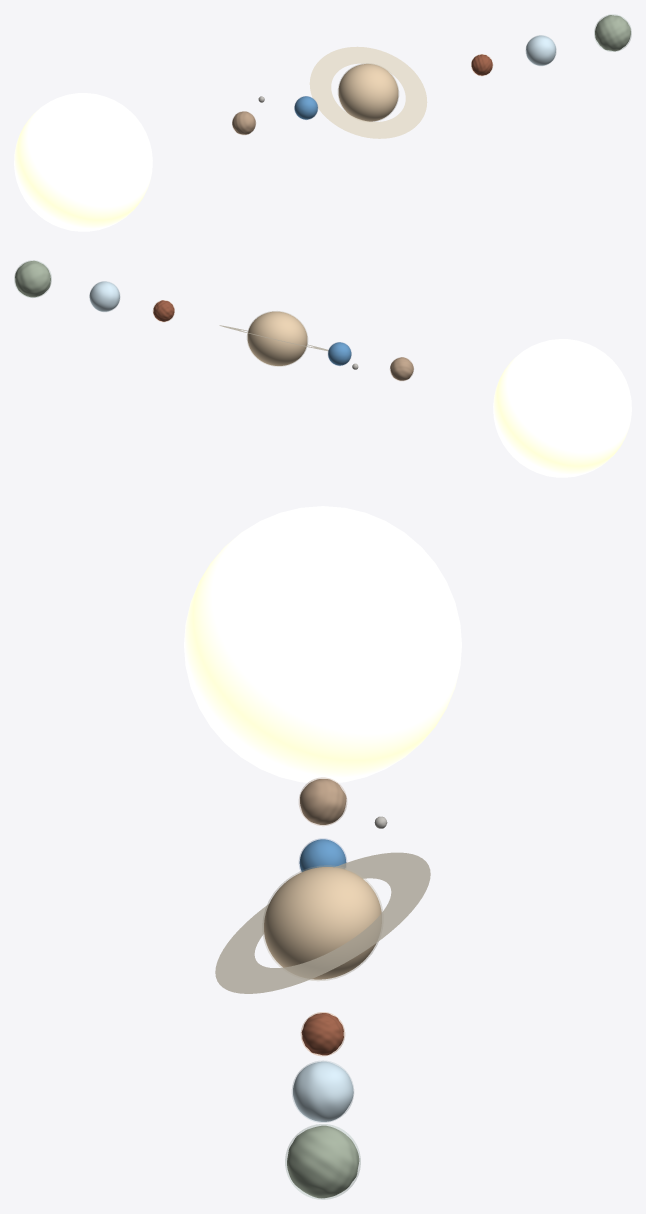
File: planets.glb
3 views of the same model, one above another, from view 1: azimuth 30°, elevation 25°; view 2: azimuth 150°, elevation 25°; view 3: azimuth 270°, elevation 25° (orthographic). The views are drawn at different scales.
Parts seen in each view (by area): view 1: Star, GasGiant_Ring, Atmosphere_gas-giant, Planet_gas-giant, Atmosphere_super-earth, Planet_super-earth, Atmosphere_ice, Planet_ice, Atmosphere_rocky, Atmosphere_ocean, Planet_rocky, Planet_ocean (+2 smaller); view 2: Star, Atmosphere_gas-giant, Planet_gas-giant, Atmosphere_super-earth, Planet_super-earth, Atmosphere_ice, Planet_ice, Atmosphere_rocky, Atmosphere_ocean, Planet_rocky, Planet_ocean, Atmosphere_lava (+1 smaller); view 3: Star, Planet_gas-giant, Atmosphere_gas-giant, GasGiant_Ring, Atmosphere_super-earth, Planet_super-earth, Atmosphere_ice, Planet_ice, Atmosphere_rocky, Planet_rocky, Atmosphere_lava, Planet_lava (+2 smaller).
Part boxes in pixels (bbox=[...]): Star: bbox=[14, 93, 152, 231]; GasGiant_Ring: bbox=[309, 46, 427, 138]; Atmosphere_gas-giant: bbox=[338, 63, 398, 121]; Planet_gas-giant: bbox=[338, 64, 398, 121]; Atmosphere_super-earth: bbox=[594, 14, 631, 51]; Planet_super-earth: bbox=[595, 15, 630, 51]; Atmosphere_ice: bbox=[525, 35, 556, 65]; Planet_ice: bbox=[526, 35, 555, 65]; Atmosphere_rocky: bbox=[232, 111, 255, 134]; Atmosphere_ocean: bbox=[294, 96, 317, 119]; Planet_rocky: bbox=[232, 111, 255, 134]; Planet_ocean: bbox=[294, 96, 317, 119]; Star: bbox=[493, 339, 631, 477]; Atmosphere_gas-giant: bbox=[247, 311, 307, 366]; Planet_gas-giant: bbox=[247, 311, 307, 365]; Atmosphere_super-earth: bbox=[14, 260, 51, 297]; Planet_super-earth: bbox=[15, 260, 50, 297]; Atmosphere_ice: bbox=[89, 281, 120, 311]; Planet_ice: bbox=[89, 281, 119, 311]; Atmosphere_rocky: bbox=[390, 357, 413, 380]; Atmosphere_ocean: bbox=[328, 342, 351, 365]; Planet_rocky: bbox=[390, 357, 413, 380]; Planet_ocean: bbox=[328, 342, 351, 365]; Atmosphere_lava: bbox=[153, 300, 174, 321]; Star: bbox=[184, 506, 461, 782]; Planet_gas-giant: bbox=[264, 867, 381, 979]; Atmosphere_gas-giant: bbox=[262, 865, 382, 980]; GasGiant_Ring: bbox=[215, 852, 430, 993]; Atmosphere_super-earth: bbox=[285, 1124, 360, 1199]; Planet_super-earth: bbox=[287, 1125, 359, 1198]; Atmosphere_ice: bbox=[292, 1060, 353, 1122]; Planet_ice: bbox=[293, 1061, 353, 1121]; Atmosphere_rocky: bbox=[299, 777, 346, 825]; Planet_rocky: bbox=[300, 779, 346, 824]; Atmosphere_lava: bbox=[301, 1012, 344, 1055]; Planet_lava: bbox=[301, 1013, 343, 1055].
Size of the model in its own units: 60.4 by 12 by 12.
